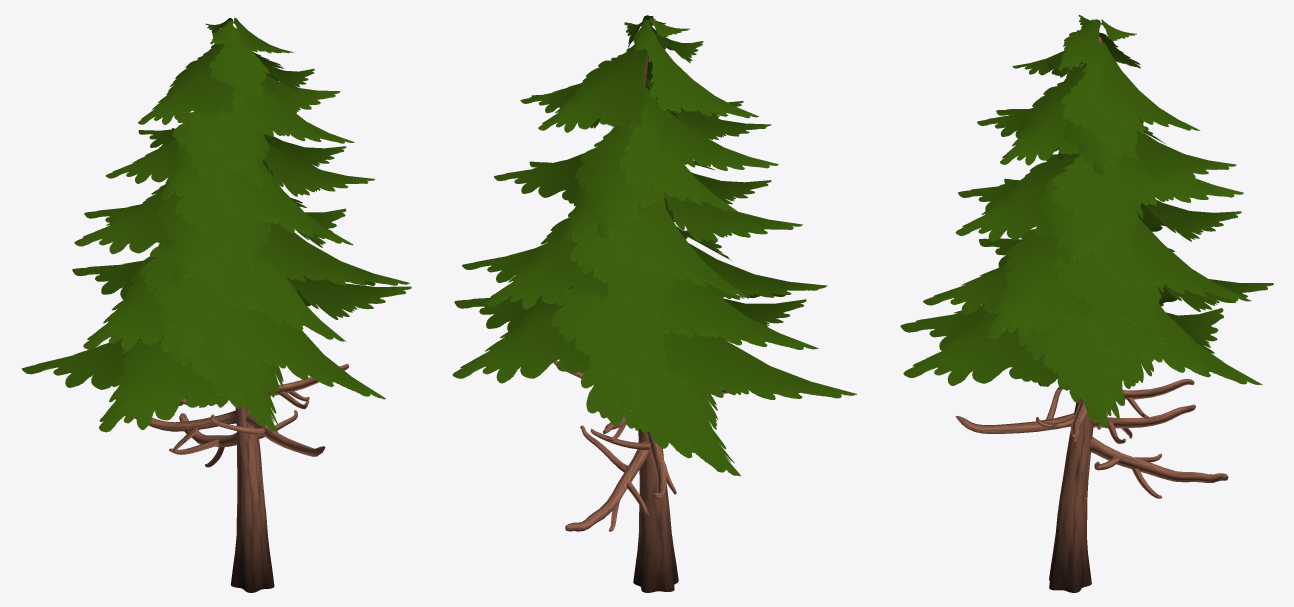
File: sn_pine_1.glb
3 views of the same model, side by side, from view 1: azimuth 30°, elevation 25°; view 2: azimuth 150°, elevation 25°; view 3: azimuth 270°, elevation 25° (orthographic). The views are drawn at different scales.
Visible parts, largest first — view 1: Pine_1; view 2: Pine_1; view 3: Pine_1.
Part boxes in pixels (<box>): Pine_1: <box>21,18,411,592</box>; Pine_1: <box>452,15,856,592</box>; Pine_1: <box>900,14,1273,592</box>.
Bounding box in the file's own units: 4.94 × 7.32 × 4.54.
2 materials, 2 textured.
